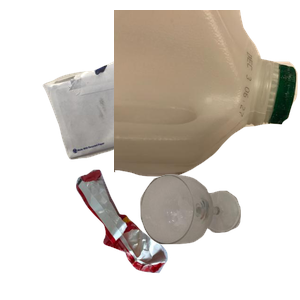glass: (138, 172, 300, 300)
paper: (40, 35, 249, 187)
plastic: (114, 10, 300, 179)
trash: (74, 167, 235, 300)
